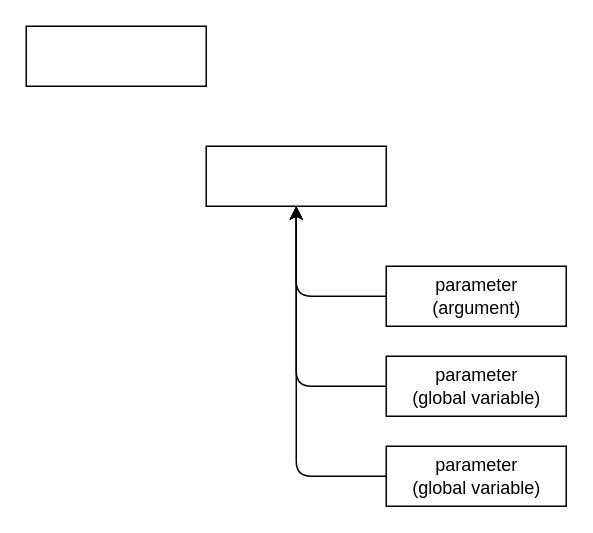
Some shapes in this 593 by 533 pixel diagram are drawn without their labels. Here are the shapes that lost their labels. From the top down, the centre of each, then its label:
At pixel 115 55: "Source code file".
At pixel 295 175: "function".
